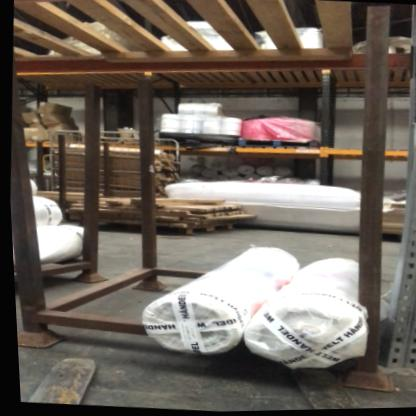vertical_damage: (373, 337, 416, 391)
